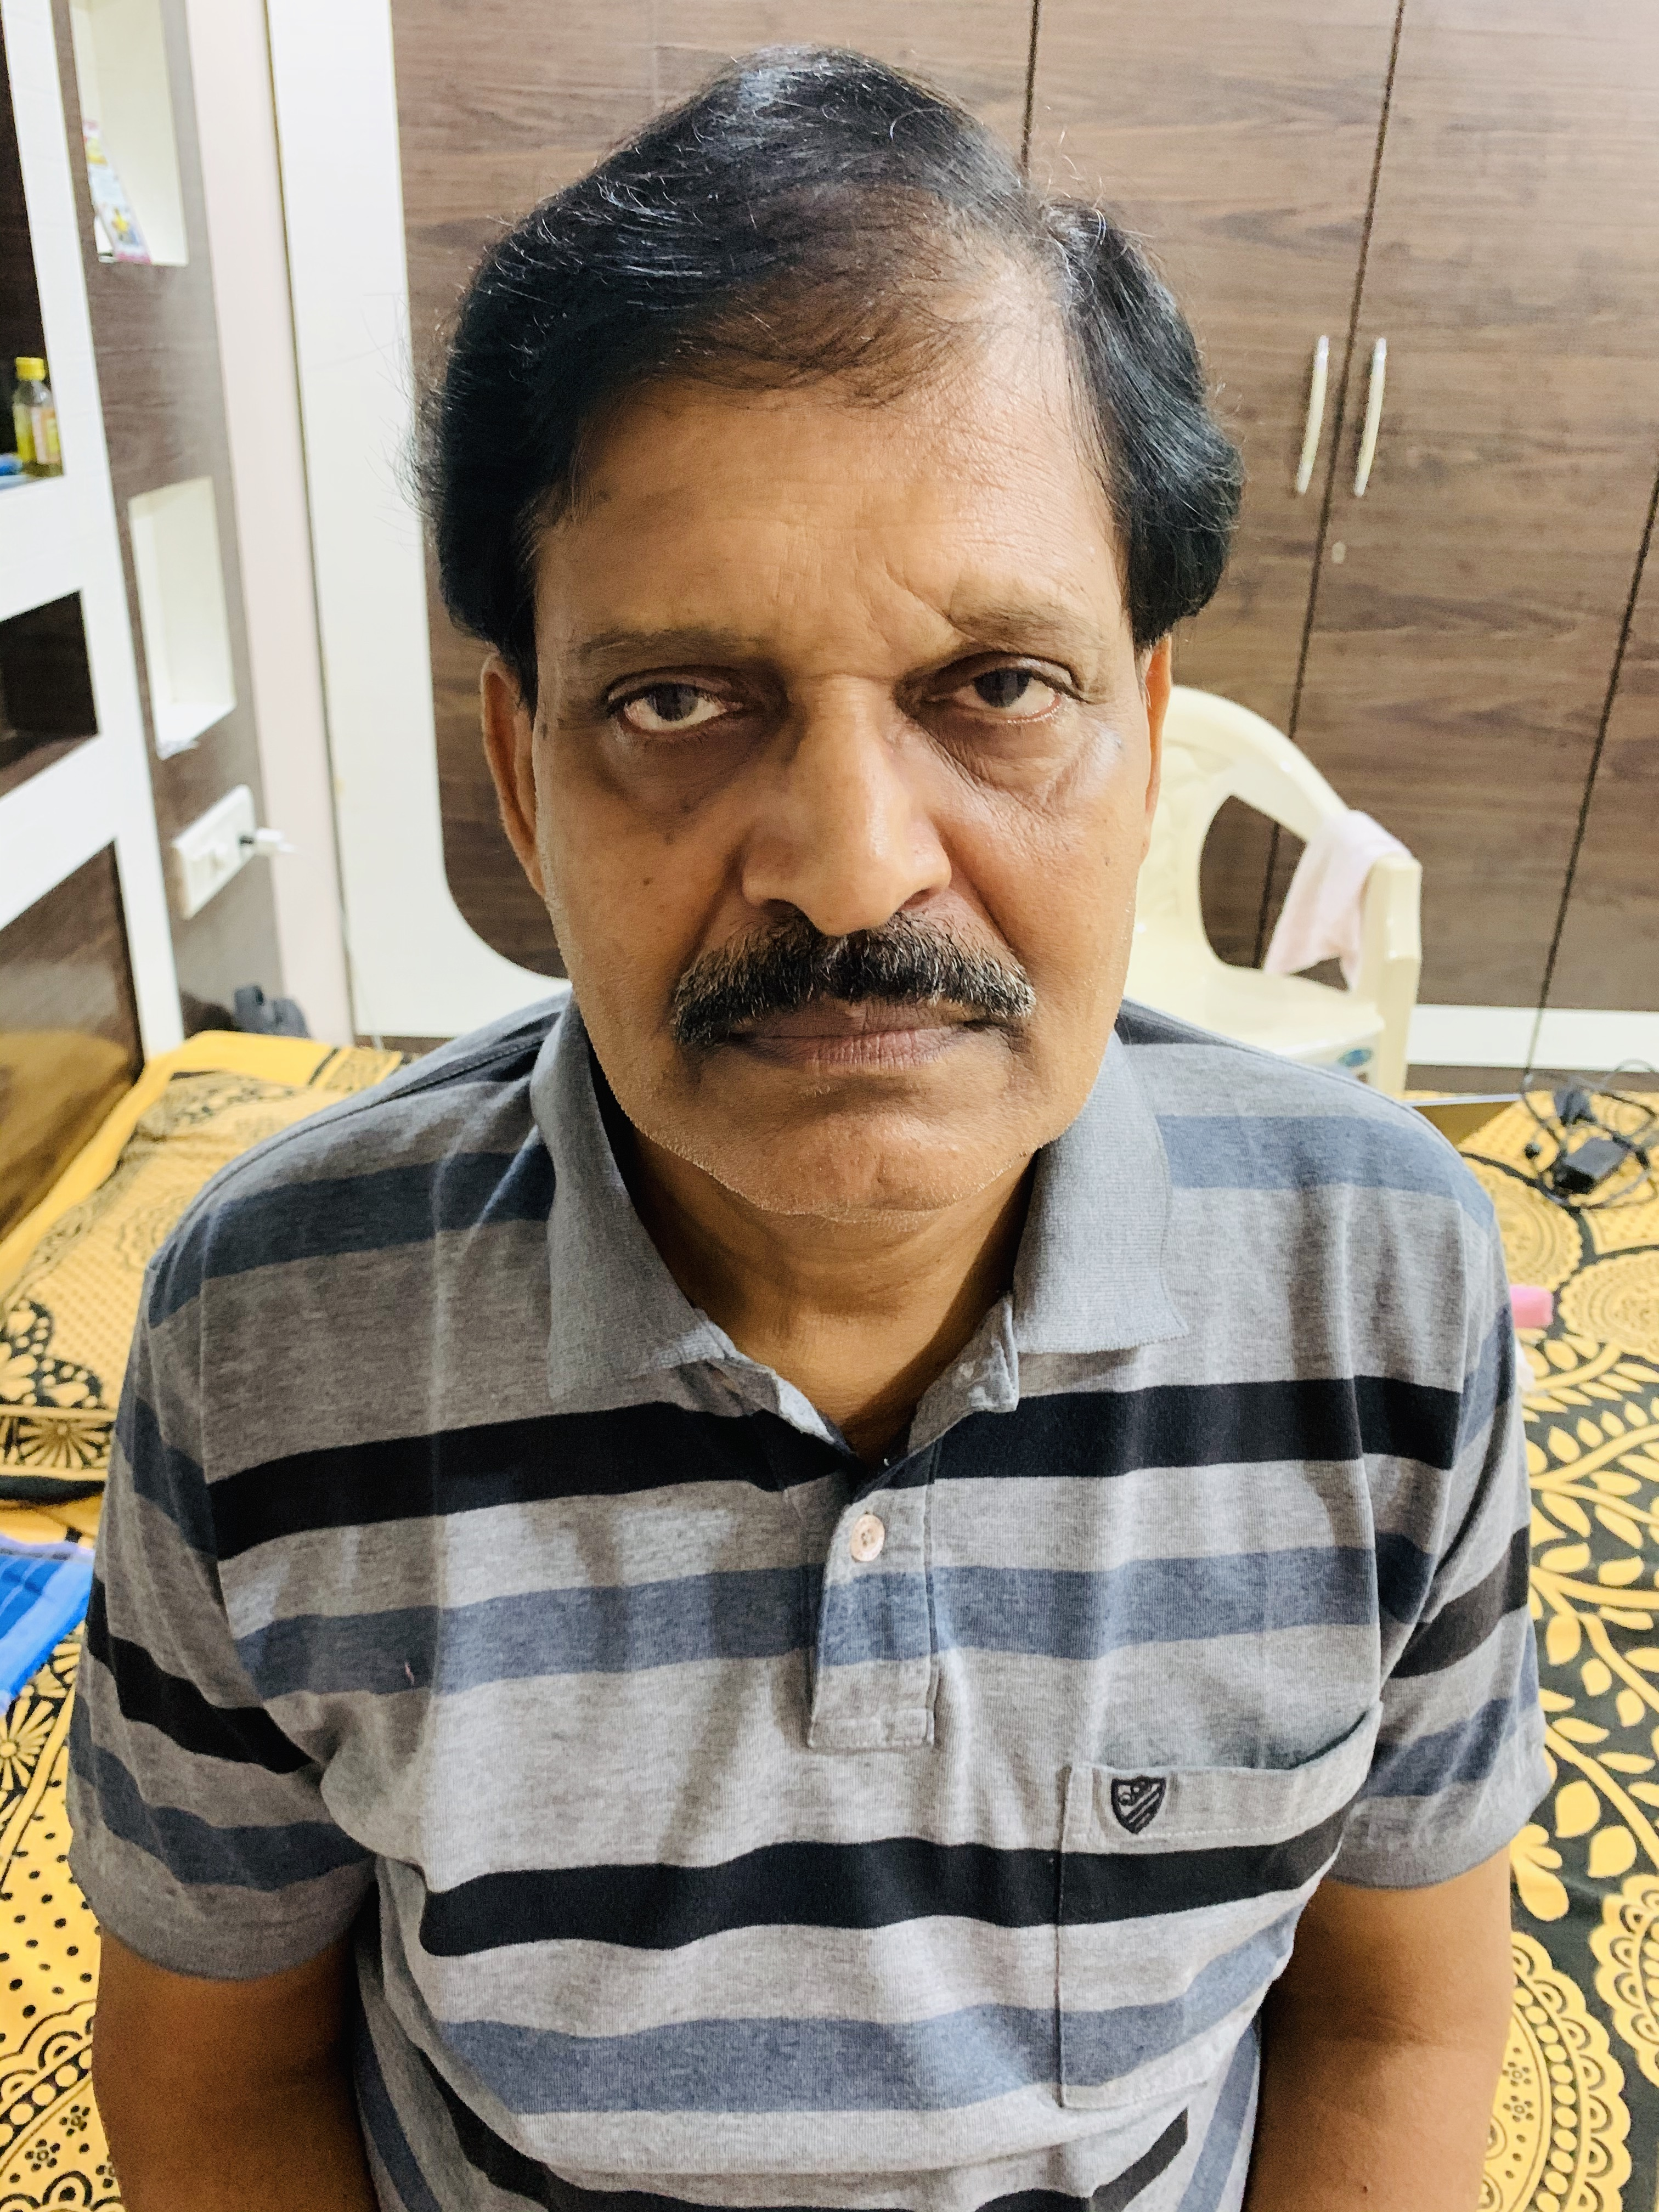Not Sleeping: (573, 618, 1105, 782)
